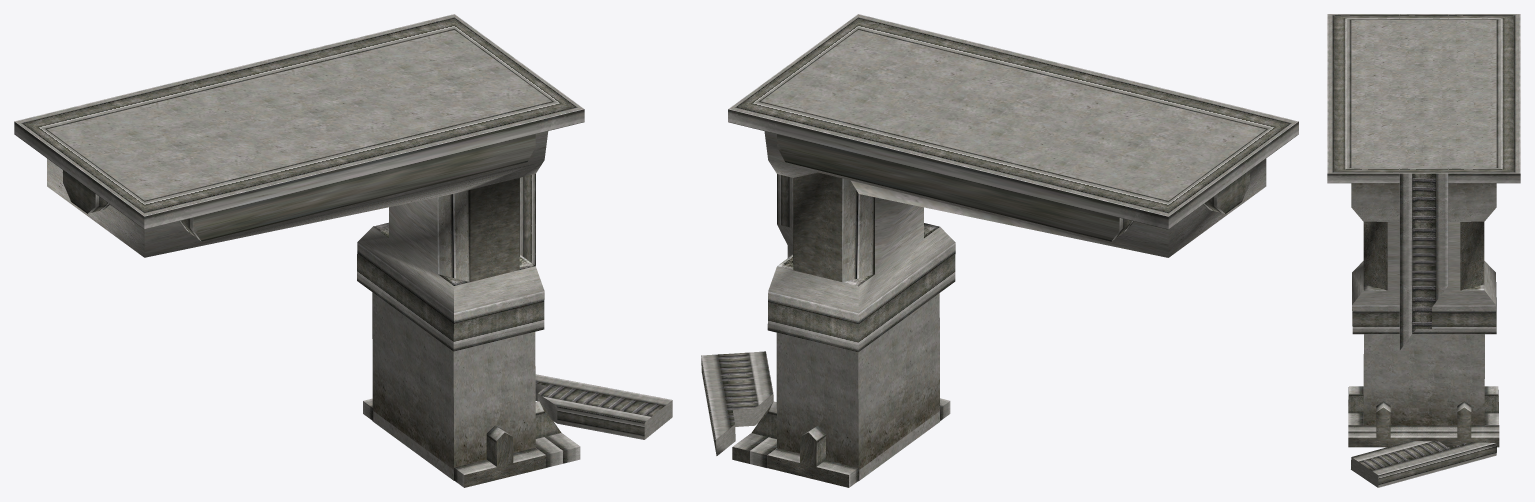
File: DWARF_PALACE_WATER_ROOM_BROKENPILLER.fbx
3 renders of one model, left to right at view 1: azimuth 30°, elevation 25°; view 2: azimuth 150°, elevation 25°; view 3: azimuth 270°, elevation 25°, orthographic. The views are drawn at different scales.
Visible parts, largest first — view 1: DWARF_PALACE_WATER_ROOM_BROKENPILLER; view 2: DWARF_PALACE_WATER_ROOM_BROKENPILLER; view 3: DWARF_PALACE_WATER_ROOM_BROKENPILLER.
Part boxes in pixels (box(x1,y1,x2,y2)): DWARF_PALACE_WATER_ROOM_BROKENPILLER: box(14, 14, 672, 487); DWARF_PALACE_WATER_ROOM_BROKENPILLER: box(701, 14, 1298, 487); DWARF_PALACE_WATER_ROOM_BROKENPILLER: box(1327, 14, 1520, 487).
Bounding box in the file's own units: 137765 × 85508 × 55182.
Materials: 8 (8 with a texture image).
